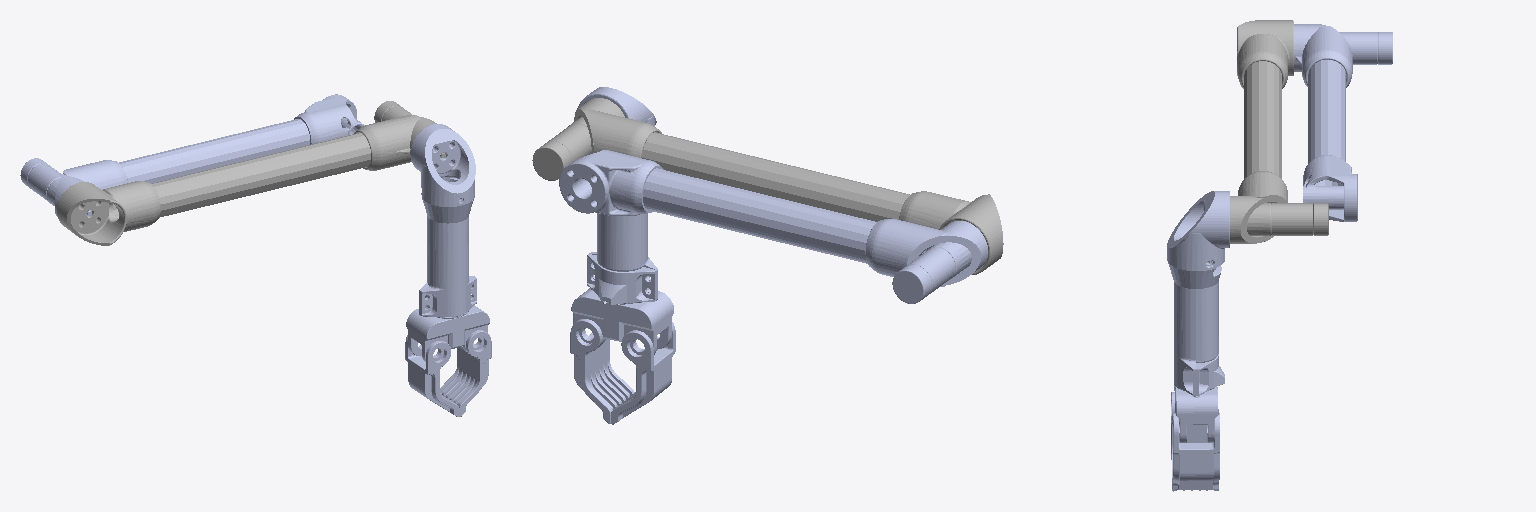
robot.urdf — urdf6:
<?xml version="1.0" encoding="utf-8"?>
<!-- This URDF was automatically created by SolidWorks to URDF Exporter! Originally created by [author] ([email redacted]) 
     Commit Version: 1.6.0-4-g7f85cfe  Build Version: 1.6.7995.38578
     For more information, please see http://wiki.ros.org/sw_urdf_exporter -->
<robot
  name="urdf6">
  <link
    name="Base">
    <!-- <inertial>
      <origin
        xyz="-0.000394168928921135 0.000616691773024133 0.0375336502754545"
        rpy="0 0 0" />
      <mass
        value="0.0605466440421492" />
      <inertia
        ixx="8.0889310657647E-05"
        ixy="2.32512353925181E-06"
        ixz="3.12186286455276E-06"
        iyy="6.69257509402342E-05"
        iyz="-1.18840067228244E-06"
        izz="4.86579912511079E-05" />
    </inertial> -->
    <visual>
      <origin
        xyz="0 0 0"
        rpy="0 0 0" />
      <geometry>
        <mesh
          filename="package://urdf6/meshes/Base.STL" />
      </geometry>
      <material
        name="">
        <color
          rgba="0.752941176470588 0.752941176470588 0.752941176470588 1" />
      </material>
    </visual>
    <collision>
      <origin
        xyz="0 0 0"
        rpy="0 0 0" />
      <geometry>
        <mesh
          filename="package://urdf6/meshes/Base.STL" />
      </geometry>
    </collision>
  </link>
  <link
    name="Link1">
    <inertial>
      <origin
        xyz="0.150465007557824 0.00234219838780464 -1.14751107033184E-07"
        rpy="0 0 0" />
      <mass
        value="0.0972494220380202" />
      <inertia
        ixx="2.3557507283104E-05"
        ixy="2.94221020768902E-06"
        ixz="-5.47715884945158E-10"
        iyy="0.000126486471893259"
        iyz="5.78235162309033E-10"
        izz="0.000135143363181535" />
    </inertial>
    <visual>
      <origin
        xyz="0 0 0"
        rpy="0 0 0" />
      <geometry>
        <mesh
          filename="package://urdf6/meshes/Link1.STL" />
      </geometry>
      <material
        name="">
        <color
          rgba="0.792156862745098 0.819607843137255 0.933333333333333 1" />
      </material>
    </visual>
    <collision>
      <origin
        xyz="0 0 0"
        rpy="0 0 0" />
      <geometry>
        <mesh
          filename="package://urdf6/meshes/Link1.STL" />
      </geometry>
    </collision>
  </link>
  <joint
    name="base_joint"
    type="revolute">
    <origin
      xyz="0 -0.0071 0.08"
      rpy="3.1416 0 3.1416" />
    <parent
      link="Base" />
    <child
      link="Link1" />
    <axis
      xyz="0 -1 0" />
    <limit
      lower="-3.2"
      upper="0"
      effort="0"
      velocity="0" />
  </joint>
  <link
    name="Link2">
    <inertial>
      <origin
        xyz="0.163919340398052 0.00184738682190341 2.24411611418618E-07"
        rpy="0 0 0" />
      <mass
        value="0.108347679467927" />
      <inertia
        ixx="2.54556681319295E-05"
        ixy="3.27317203176844E-06"
        ixz="-6.68504823963883E-10"
        iyy="0.000189016239296649"
        iyz="9.42671663545903E-10"
        izz="0.000196759369813073" />
    </inertial>
    <visual>
      <origin
        xyz="0 0 0"
        rpy="0 0 0" />
      <geometry>
        <mesh
          filename="package://urdf6/meshes/Link2.STL" />
      </geometry>
      <material
        name="">
        <color
          rgba="0.752941176470588 0.752941176470588 0.752941176470588 1" />
      </material>
    </visual>
    <collision>
      <origin
        xyz="0 0 0"
        rpy="0 0 0" />
      <geometry>
        <mesh
          filename="package://urdf6/meshes/Link2.STL" />
      </geometry>
    </collision>
  </link>
  <joint
    name="elbow_joint"
    type="revolute">
    <origin
      xyz="0.235 -0.042735 0"
      rpy="3.1416 0 3.1416" />
    <parent
      link="Link1" />
    <child
      link="Link2" />
    <axis
      xyz="0 1 0" />
    <limit
      lower="-3.2"
      upper="0"
      effort="0"
      velocity="0" />
  </joint>
  <link
    name="Link3">
    <inertial>
      <origin
        xyz="0.0957659559652533 0.00097171259466447 7.93393583788382E-05"
        rpy="0 0 0" />
      <mass
        value="0.095657166393738" />
      <inertia
        ixx="2.13671855982147E-05"
        ixy="1.11543397688684E-06"
        ixz="-7.86320316868313E-08"
        iyy="4.27183095088428E-05"
        iyz="-5.0918785236186E-08"
        izz="3.78891140978171E-05" />
    </inertial>
    <visual>
      <origin
        xyz="0 0 0"
        rpy="0 0 0" />
      <geometry>
        <mesh
          filename="package://urdf6/meshes/Link3.STL" />
      </geometry>
      <material
        name="">
        <color
          rgba="0.792156862745098 0.819607843137255 0.933333333333333 1" />
      </material>
    </visual>
    <collision>
      <origin
        xyz="0 0 0"
        rpy="0 0 0" />
      <geometry>
        <mesh
          filename="package://urdf6/meshes/Link3.STL" />
      </geometry>
    </collision>
  </link>
  <joint
    name="wrist_joint"
    type="revolute">
    <origin
      xyz="0.2695 -0.044485 0"
      rpy="0 1.5708 0" />
    <parent
      link="Link2" />
    <child
      link="Link3" />
    <axis
      xyz="0 -1 0" />
    <limit
      lower="-3.2"
      upper="3.2"
      effort="0"
      velocity="0" />
  </joint>
</robot>

--- Facts derived from the render (not from the file) ---
3 views of the same robot in one strip: view 1: azimuth 30°, elevation 25°; view 2: azimuth 150°, elevation 25°; view 3: azimuth 270°, elevation 25° (orthographic).
Model urdf6 with 4 links and 3 joints (3 revolute), rooted at Base, posed all joints at 0.
Visible links, largest first — view 1: Link3, Link2, Link1; view 2: Link1, Link2, Link3; view 3: Link3, Link2, Link1.
Link boxes in pixels (x1=…): Link3: x1=405, y1=124, x2=491, y2=416; Link2: x1=57, y1=101, x2=445, y2=245; Link1: x1=20, y1=94, x2=364, y2=216; Link1: x1=559, y1=150, x2=987, y2=303; Link2: x1=532, y1=98, x2=1003, y2=274; Link3: x1=570, y1=87, x2=675, y2=424; Link3: x1=1167, y1=191, x2=1229, y2=491; Link2: x1=1230, y1=20, x2=1328, y2=243; Link1: x1=1294, y1=24, x2=1392, y2=221.
Bounding box of the posed robot: 0.3155 × 0.15 × 0.2176 m (x, y, z).
Meshes: 4 distinct files referenced, 3 mesh visuals loaded (3 binary STL); not drawn: 1 (reference not matched to a file when rendering).